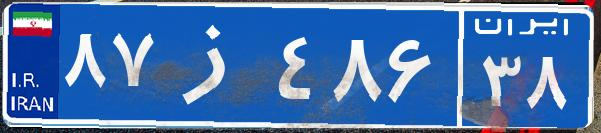3: (475, 38, 525, 113)
4: (273, 28, 330, 110)
6: (385, 28, 445, 110)
7: (110, 28, 158, 105)
8: (330, 28, 385, 110), (57, 26, 110, 107), (525, 38, 570, 115)
ز: (158, 15, 273, 115)
